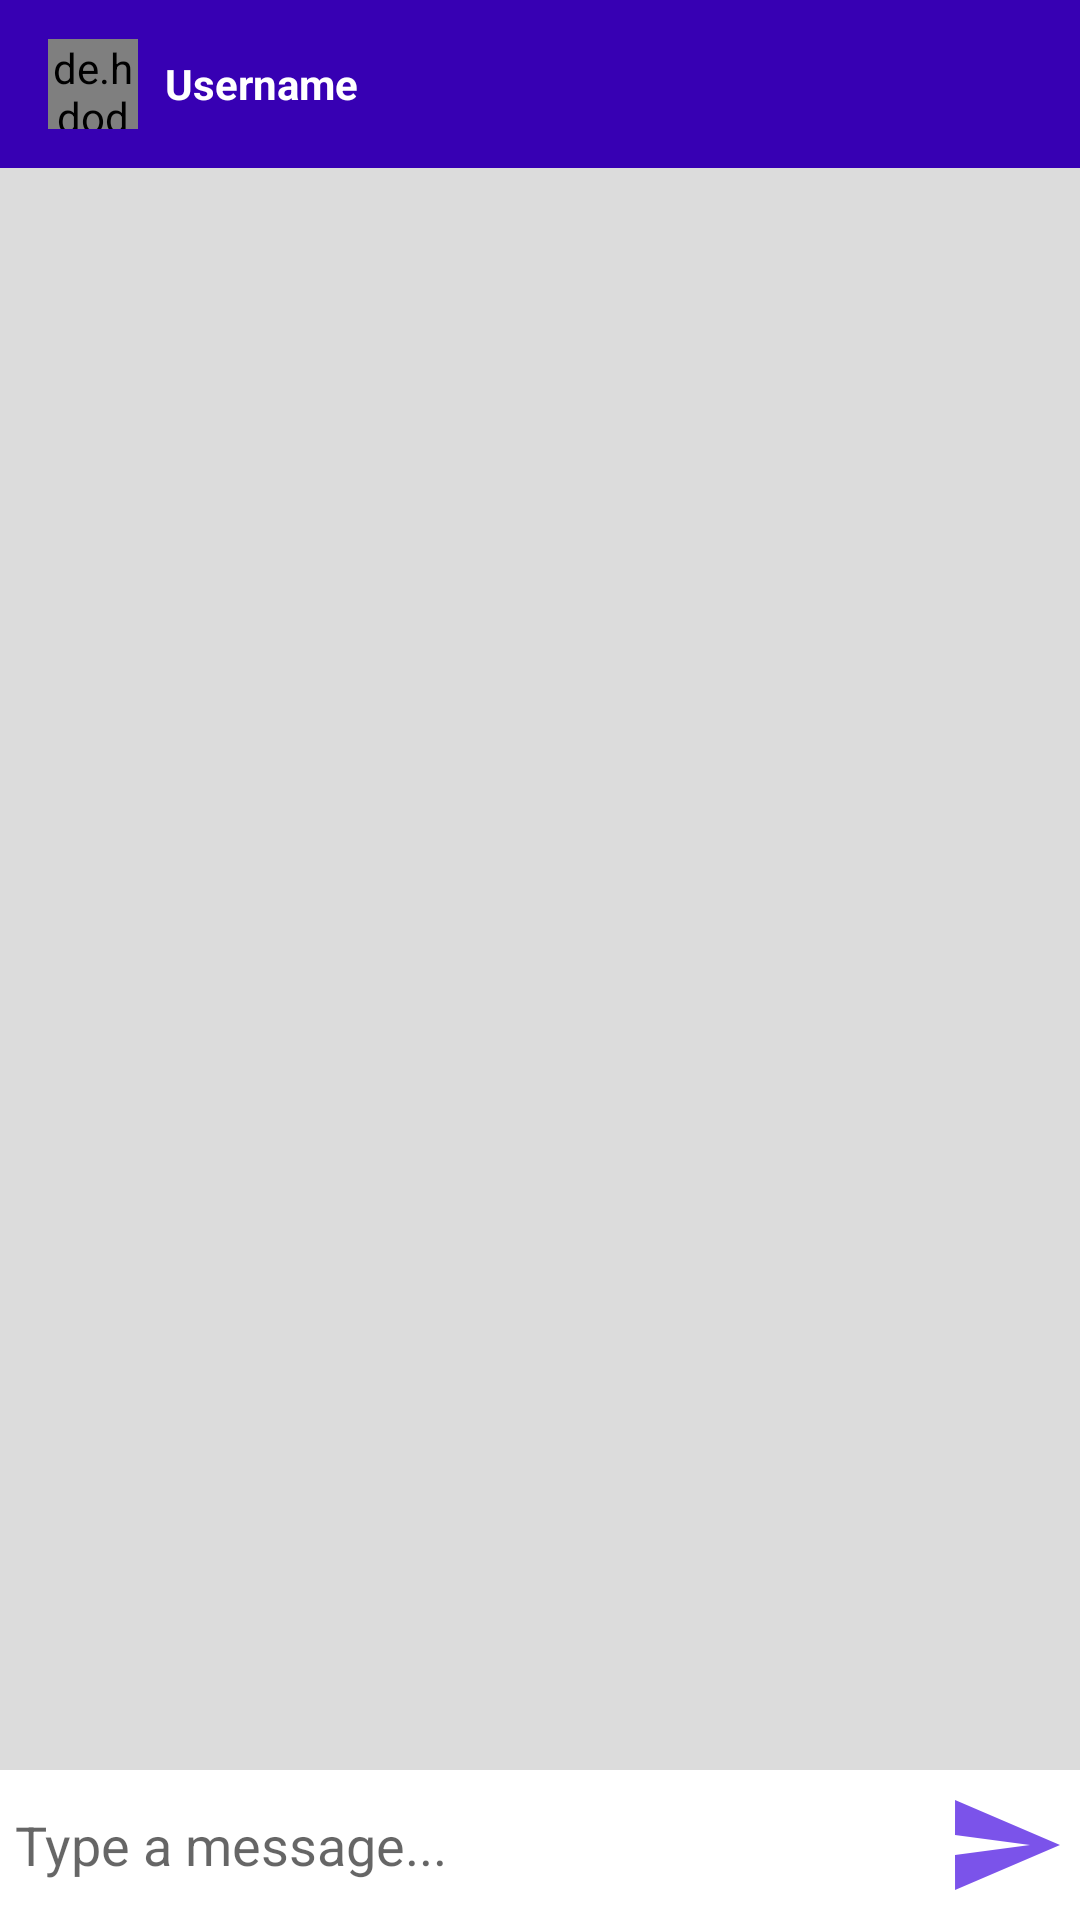

Locate icon controls on the screen. Image size 1080px x 1920px, boxes as (x1, y1, x2, y2).
send: (955, 1800, 1060, 1890)
